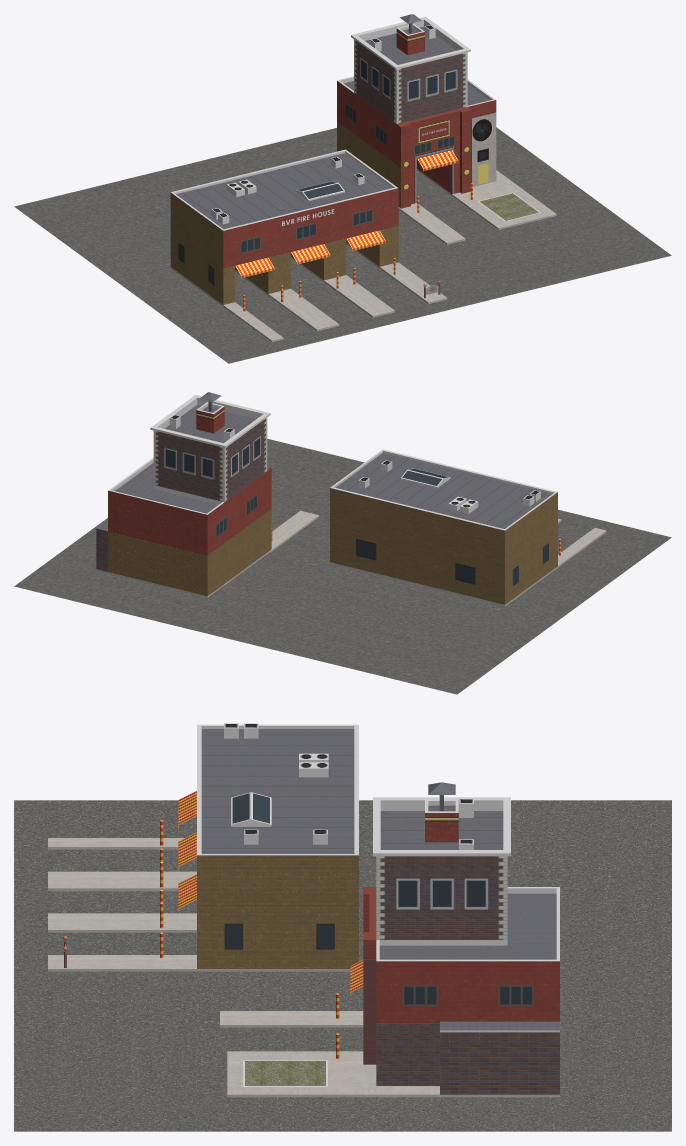
Rendered from BVR Fire House_Static.FBX.
3 renders of one model, top to bottom at view 1: azimuth 30°, elevation 25°; view 2: azimuth 150°, elevation 25°; view 3: azimuth 270°, elevation 25°, orthographic. The views are drawn at different scales.
Parts seen in each view (by area): view 1: BVR Fire House_Static, road; view 2: BVR Fire House_Static, road; view 3: road, BVR Fire House_Static.
Part boxes in pixels (x1=…): BVR Fire House_Static: x1=170, y1=14, x2=556, y2=342; road: x1=14, y1=127, x2=671, y2=363; BVR Fire House_Static: x1=96, y1=392, x2=606, y2=606; road: x1=14, y1=439, x2=671, y2=694; road: x1=14, y1=800, x2=671, y2=1131; BVR Fire House_Static: x1=48, y1=723, x2=559, y2=1097.
Bounding box in the file's own units: 16.45 × 6.18 × 13.81.
